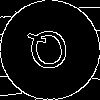Q: (25, 25, 74, 81)
